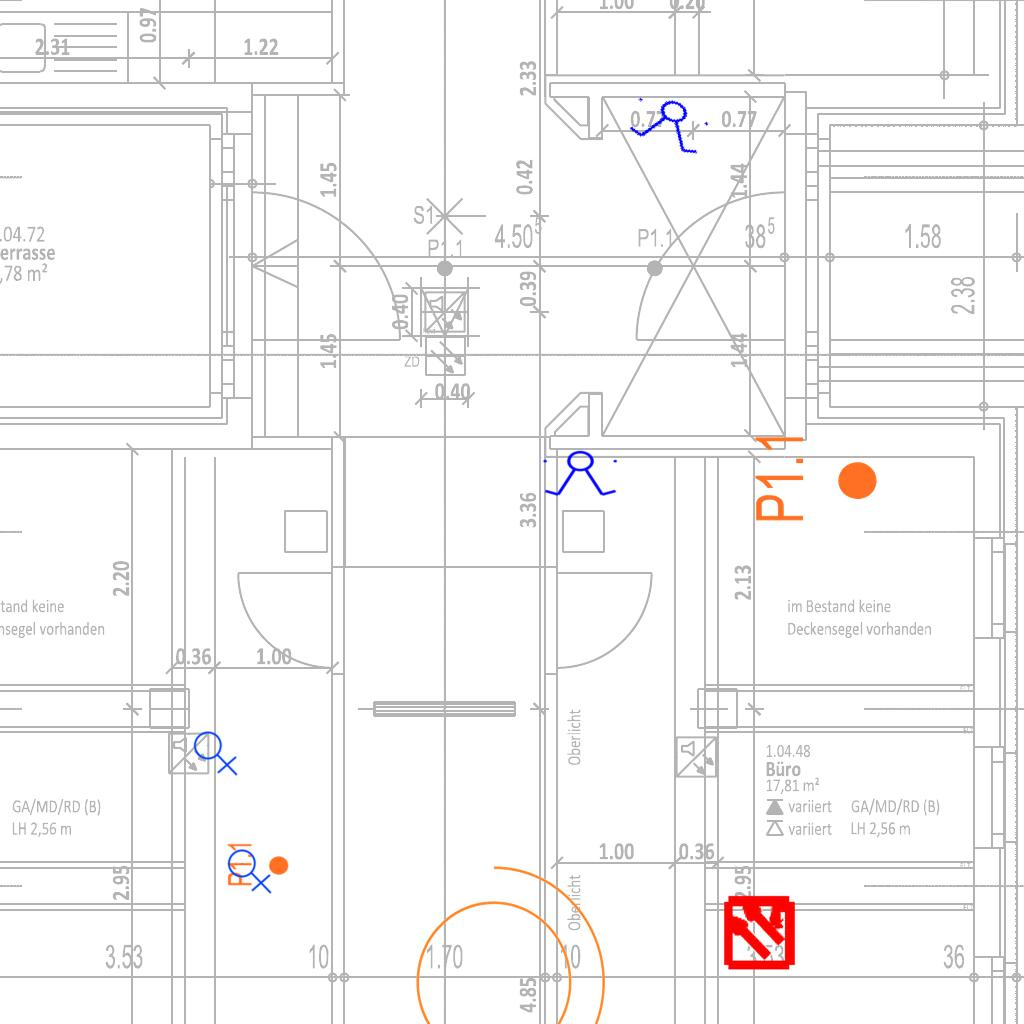Downlight_LED_Einbauleuchten_Flur: (752, 431, 880, 524), (226, 841, 290, 887)
Elektroanschluss_allgemein_230V_Geraeteanschlussdose_230V: (193, 727, 240, 776), (227, 845, 274, 894)
OT_Multisensormelder_(Kombination_RMO_WMD): (703, 874, 816, 987)
Scheinwerfer_fuer_Alarmbeleuchtung: (391, 844, 616, 1024)
Serienschalter: (622, 87, 718, 161), (539, 450, 623, 498)
